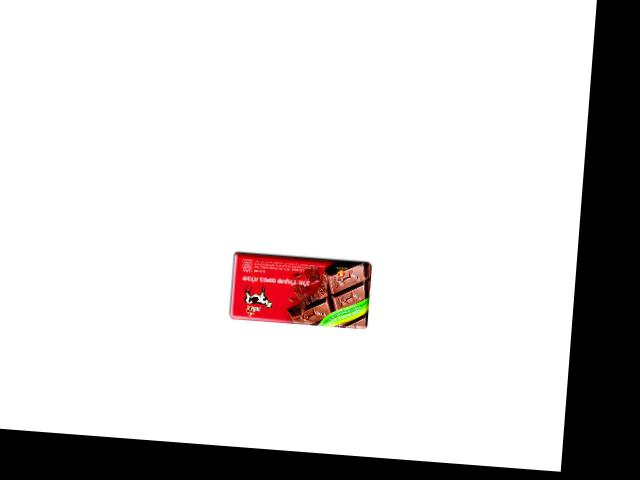chocolate: (224, 245, 372, 331)
